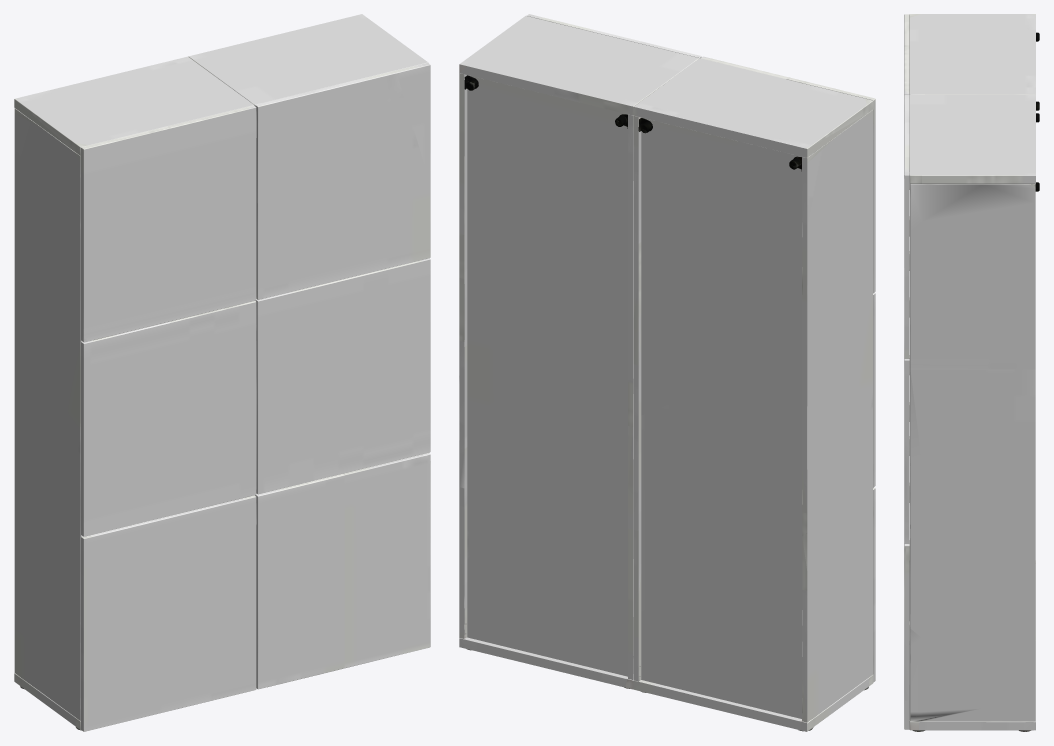
3 renders of one model, left to right at view 1: azimuth 30°, elevation 25°; view 2: azimuth 150°, elevation 25°; view 3: azimuth 270°, elevation 25°, orthographic. The views are drawn at different scales.
Parts seen in each view (by area): view 1: 00245842-BESTÃƒÆ’Ã¢â‚¬Â¦001.002, 50291676-LAPPVIKEN001.002, 50291676-LAPPVIKEN003.002, 50291676-LAPPVIKEN004.002, 50291676-LAPPVIKEN002.002, 50291676-LAPPVIKEN006.002, 50291676-LAPPVIKEN005.002, 00245842-BESTÃƒÆ’Ã¢â‚¬Â¦002.002; view 2: 00245842-BESTÃƒÆ’Ã¢â‚¬Â¦001.002, 00245842-BESTÃƒÆ’Ã¢â‚¬Â¦002.002, 50291676-LAPPVIKEN001.002; view 3: 00245842-BESTÃƒÆ’Ã¢â‚¬Â¦002.002, 00245842-BESTÃƒÆ’Ã¢â‚¬Â¦001.002, 50291676-LAPPVIKEN004.002, 50291676-LAPPVIKEN006.002, 50291676-LAPPVIKEN005.002, 50291676-LAPPVIKEN001.002.
Boxes of the visible parts, x1,y1,x2,y2 form: 00245842-BESTÃƒÆ’Ã¢â‚¬Â¦001.002: [14, 56, 254, 730]; 50291676-LAPPVIKEN001.002: [81, 105, 256, 342]; 50291676-LAPPVIKEN003.002: [81, 495, 256, 731]; 50291676-LAPPVIKEN004.002: [255, 63, 430, 299]; 50291676-LAPPVIKEN002.002: [81, 301, 256, 536]; 50291676-LAPPVIKEN006.002: [255, 453, 430, 689]; 50291676-LAPPVIKEN005.002: [255, 258, 430, 494]; 00245842-BESTÃƒÆ’Ã¢â‚¬Â¦002.002: [188, 14, 428, 495]; 00245842-BESTÃƒÆ’Ã¢â‚¬Â¦001.002: [633, 58, 873, 731]; 00245842-BESTÃƒÆ’Ã¢â‚¬Â¦002.002: [459, 16, 698, 689]; 50291676-LAPPVIKEN001.002: [701, 56, 875, 293]; 00245842-BESTÃƒÆ’Ã¢â‚¬Â¦002.002: [909, 95, 1039, 731]; 00245842-BESTÃƒÆ’Ã¢â‚¬Â¦001.002: [909, 14, 1039, 640]; 50291676-LAPPVIKEN004.002: [904, 95, 909, 358]; 50291676-LAPPVIKEN006.002: [904, 544, 909, 729]; 50291676-LAPPVIKEN005.002: [904, 359, 909, 543]; 50291676-LAPPVIKEN001.002: [904, 14, 909, 94].
Size of the model in its own units: 1.2 by 1.93 by 0.4238.
Materials: 1 (1 with a texture image).
